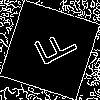F: (25, 25, 79, 73)
